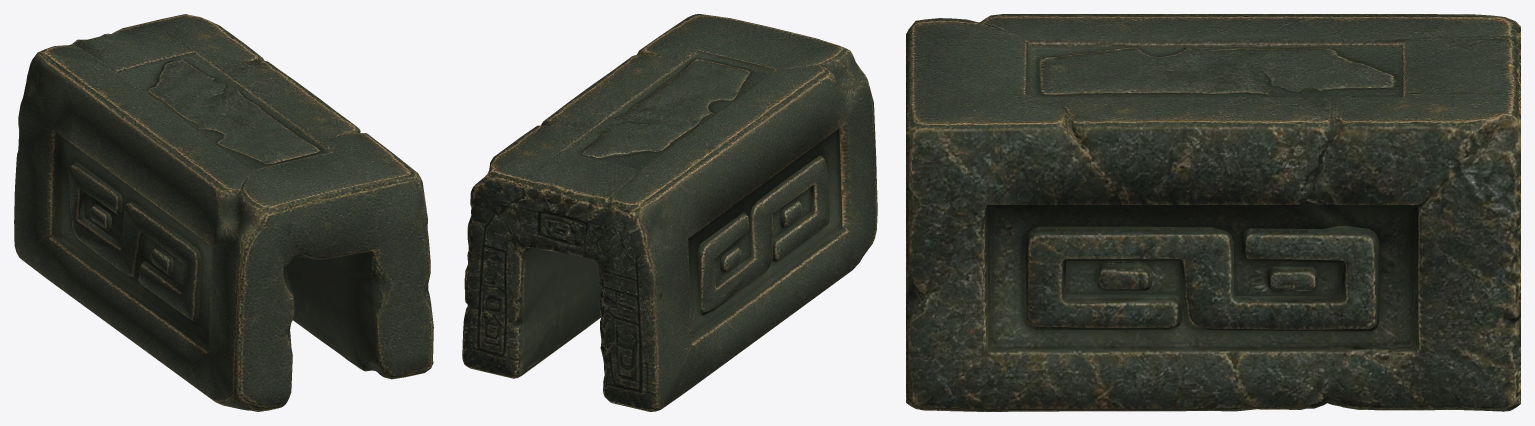
The model's file is stone-block.glb.
The picture shows the model from 3 angles, left to right: view 1: azimuth 30°, elevation 25°; view 2: azimuth 150°, elevation 25°; view 3: azimuth 270°, elevation 25°; orthographic projection. The views are drawn at different scales.
Visible parts, largest first — view 1: tripo_node_d01e8ee6-4a62-40f1-ad49-69e20c2d49af; view 2: tripo_node_d01e8ee6-4a62-40f1-ad49-69e20c2d49af; view 3: tripo_node_d01e8ee6-4a62-40f1-ad49-69e20c2d49af.
Boxes of the visible parts, x1,y1,x2,y2 form: tripo_node_d01e8ee6-4a62-40f1-ad49-69e20c2d49af: (14,14,433,411); tripo_node_d01e8ee6-4a62-40f1-ad49-69e20c2d49af: (462,14,877,411); tripo_node_d01e8ee6-4a62-40f1-ad49-69e20c2d49af: (906,14,1520,411).
Bounding box in the file's own units: 0.5215 × 0.5059 × 0.998.
Materials: 1 (1 with a texture image).
